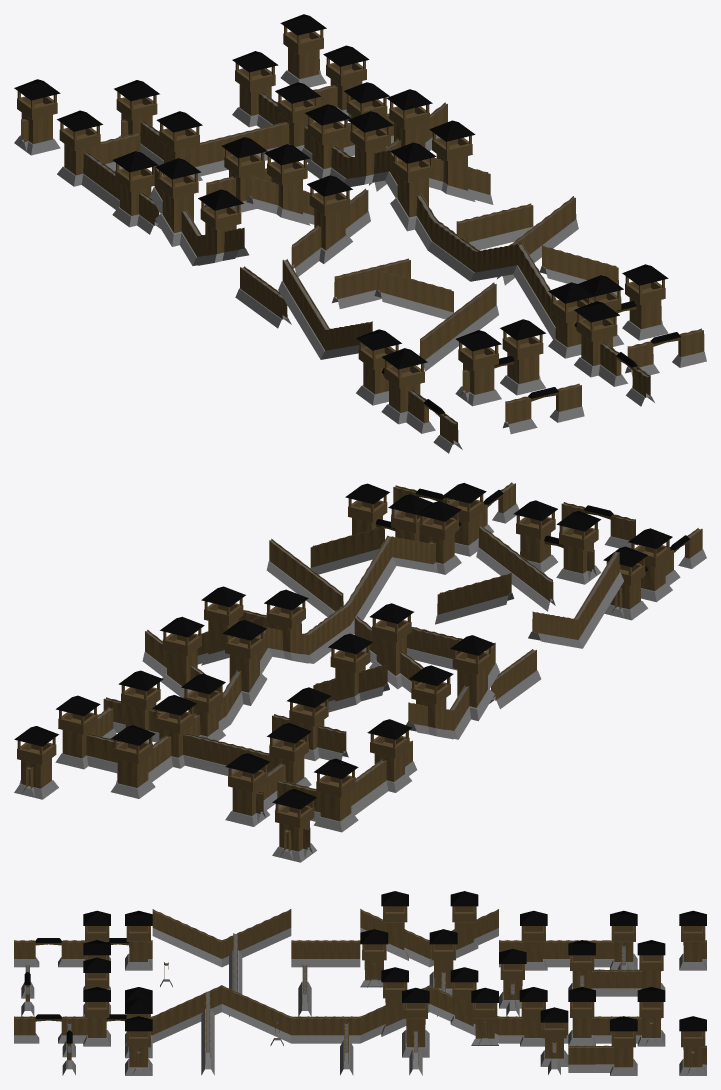
The model's file is palisade.gltf.
The picture shows the model from 3 angles, top to bottom: view 1: azimuth 30°, elevation 25°; view 2: azimuth 150°, elevation 25°; view 3: azimuth 270°, elevation 25°; orthographic projection. The views are drawn at different scales.
Visible parts, largest first — view 1: gate-lr-fortified-h, tower-lr-up-h, gate-du-fortified-h, gate-ud-fortified-h, tower-ud-rl-out-h, gate-rl-fortified-h, tower-ud-lr-out-h, tower-lr-down-h, tower-ud-down-h, tower-du-up-h, tower-rl-up-h, tower-du-lr-out-h (+28 smaller); view 2: gate-lr-fortified-h, tower-du-lr-out-h, gate-du-fortified-h, gate-ud-fortified-h, tower-ud-rl-out-h, tower-du-rl-out-h, tower-lr-down-h, tower-ud-up-h, tower-du-down-h, tower-lr-up-h, tower-rl-down-h, gate-rl-fortified-h (+26 smaller); view 3: tower-du-rl-out-h, tower-ud-up-h, gate-ud-fortified-h, tower-ud-lr-out-h, tower-ud-none-h, tower-du-down-h, tower-ud-down-h, tower-du-up-h, tower-du-none-h, gate-du-fortified-h, gate-rl-fortified-h, tower-ud-rl-out-h (+26 smaller).
Boxes of the visible parts, x1,y1,x2,y2 form: gate-lr-fortified-h: (455,319,545,406); tower-lr-up-h: (291,175,370,276); gate-du-fortified-h: (548,282,619,377); gate-ud-fortified-h: (356,329,427,424); tower-ud-rl-out-h: (57,110,140,203); gate-rl-fortified-h: (578,264,668,346); tower-ud-lr-out-h: (140,111,240,181); tower-lr-down-h: (246,144,314,225); tower-ud-down-h: (150,158,201,265); tower-du-up-h: (385,142,436,250); tower-rl-up-h: (425,120,493,204); tower-du-lr-out-h: (238,82,320,160); gate-lr-fortified-h: (513,500,601,584); tower-du-lr-out-h: (148,695,232,781); gate-du-fortified-h: (417,483,486,574); gate-ud-fortified-h: (603,528,672,620); tower-ud-rl-out-h: (274,758,375,832); tower-du-rl-out-h: (55,695,121,773); tower-lr-down-h: (313,633,389,712); tower-ud-up-h: (450,635,499,739); tower-du-down-h: (222,620,272,723); tower-lr-up-h: (354,603,423,692); tower-rl-down-h: (142,616,219,698); gate-rl-fortified-h: (345,483,432,541); tower-du-rl-out-h: (568,1016,637,1075); tower-ud-up-h: (360,891,429,967); gate-ud-fortified-h: (83,910,152,970); tower-ud-lr-out-h: (568,940,637,996); tower-ud-none-h: (499,910,568,970); tower-du-down-h: (429,967,498,1043); tower-ud-down-h: (429,891,498,966); tower-du-up-h: (360,967,429,1043); tower-du-none-h: (499,987,568,1046); gate-du-fortified-h: (83,987,152,1046); gate-rl-fortified-h: (125,998,152,1075); tower-ud-rl-out-h: (568,910,637,969).
Size of the model in its own units: 4 by 1.17 by 10.
Materials: 1 (1 with a texture image).
